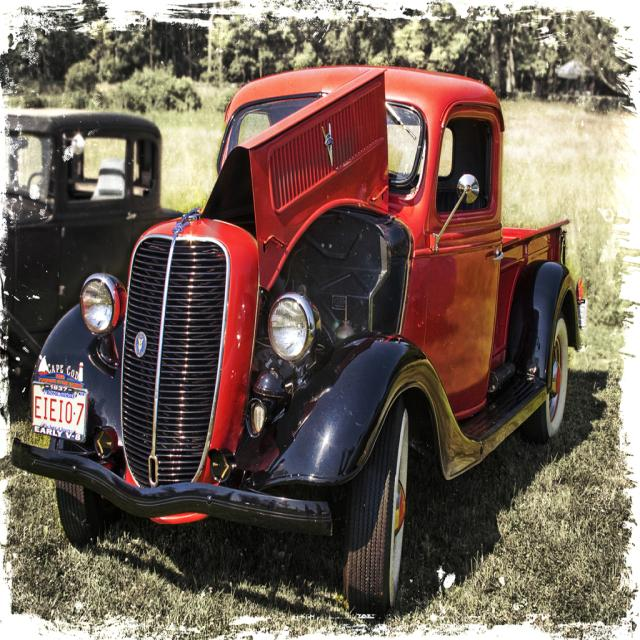car: (7, 60, 582, 611)
